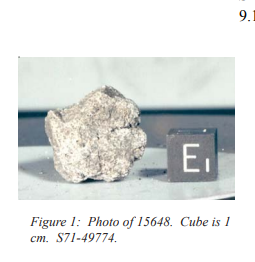Basalt: (30, 76, 161, 190)
